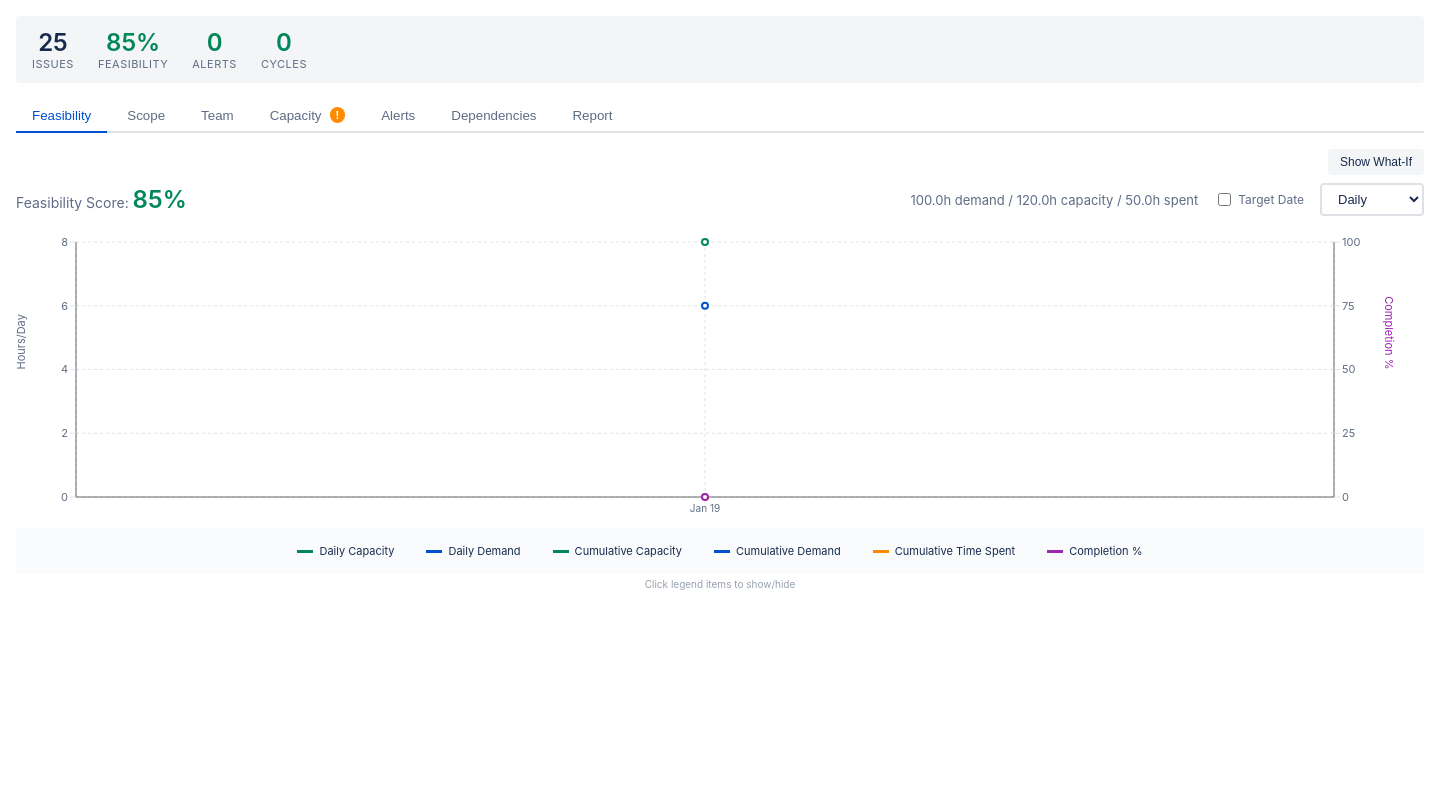
Test case: What-If Scenarios › toggles What-If panel visibility when button clicked
// Click to show What-If panel
Click the button "Show What-If" at (1376,162), box [1328,149,1424,175]
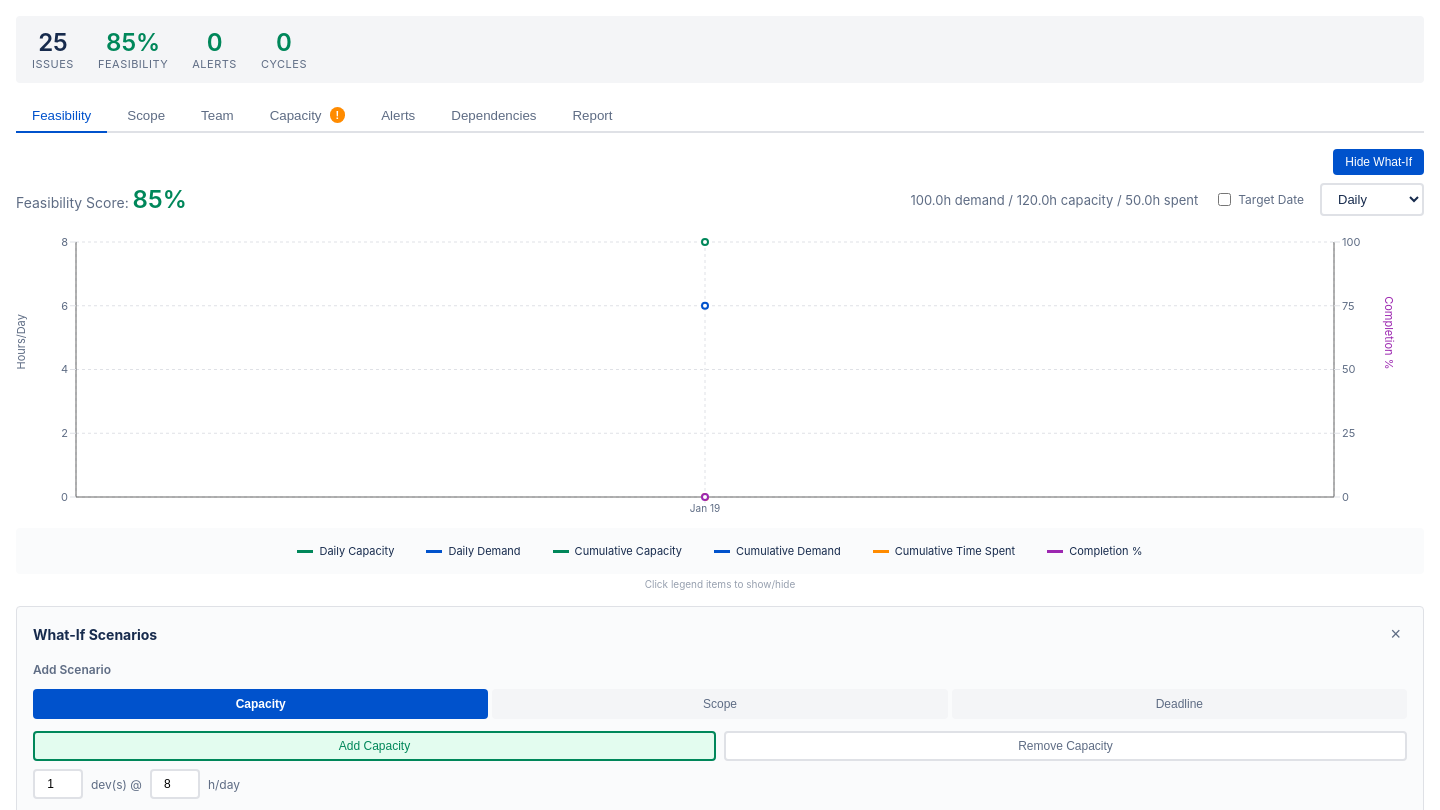
Result: the button "Hide What-If" is shown at [1333,149,1424,175]
Result: the heading "What-If Scenarios" is shown at [33,626,157,643]
